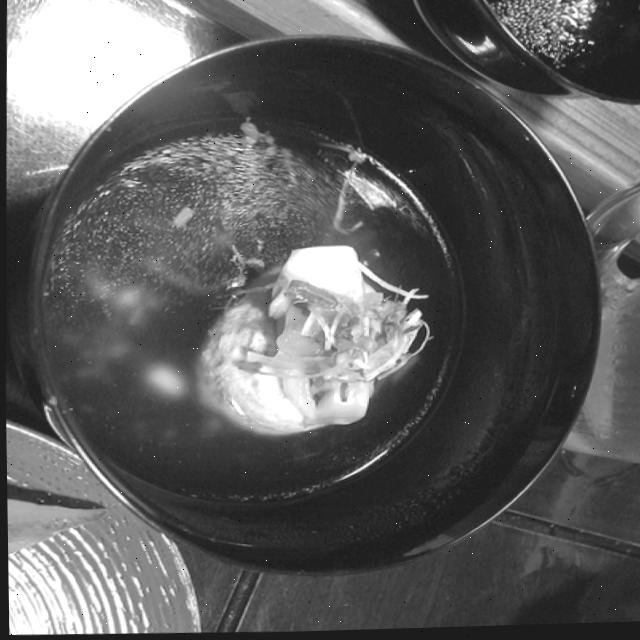汤锅炖物: (16, 74, 512, 541)
